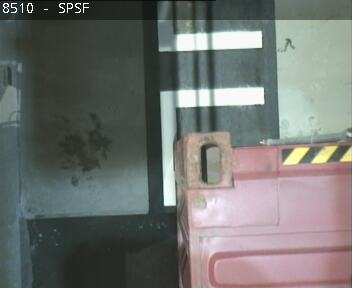groundmarker_1: (155, 1, 268, 208)
